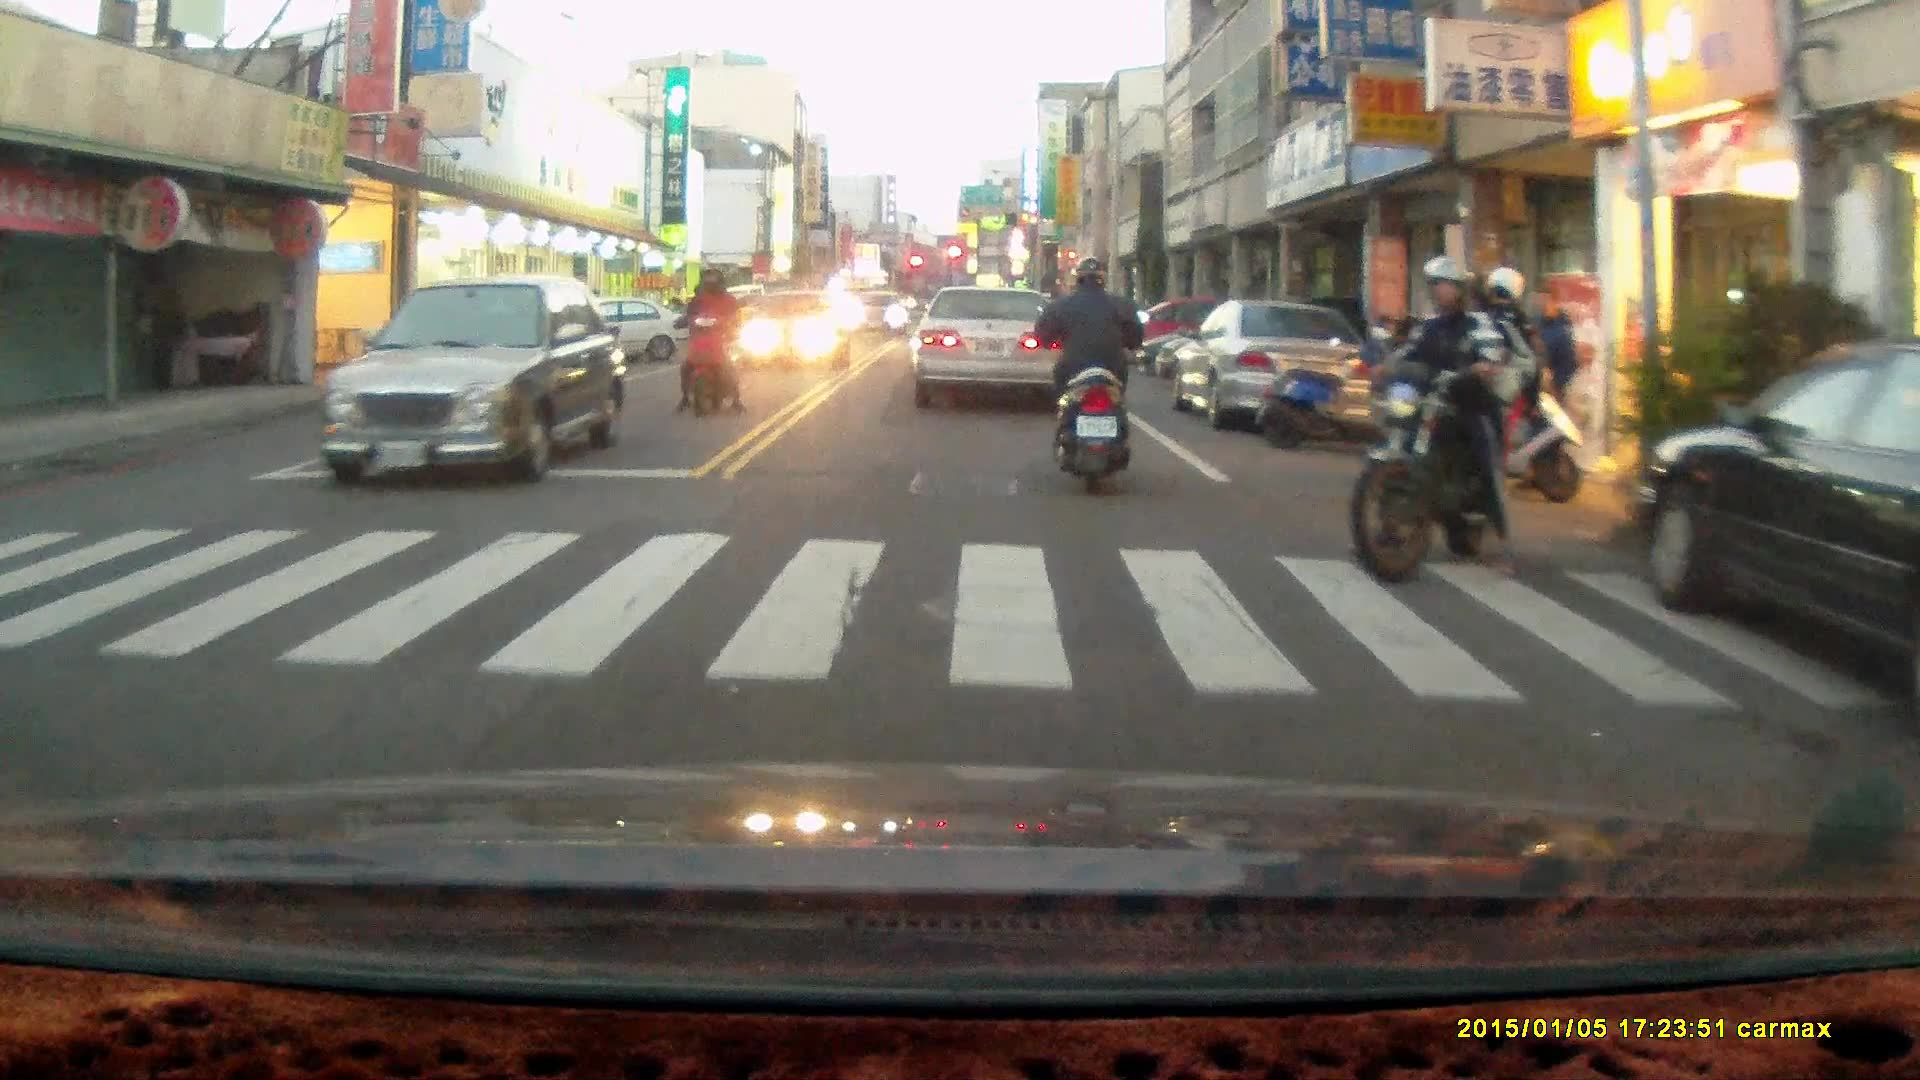pedestrian: (1464, 265, 1537, 502), (1527, 283, 1578, 469)
rider: (1349, 257, 1535, 577), (1030, 252, 1147, 492), (671, 261, 744, 419)
vehicle: (1631, 331, 1920, 723), (327, 274, 629, 487), (1178, 303, 1383, 435), (916, 287, 1071, 401), (730, 286, 845, 371)
